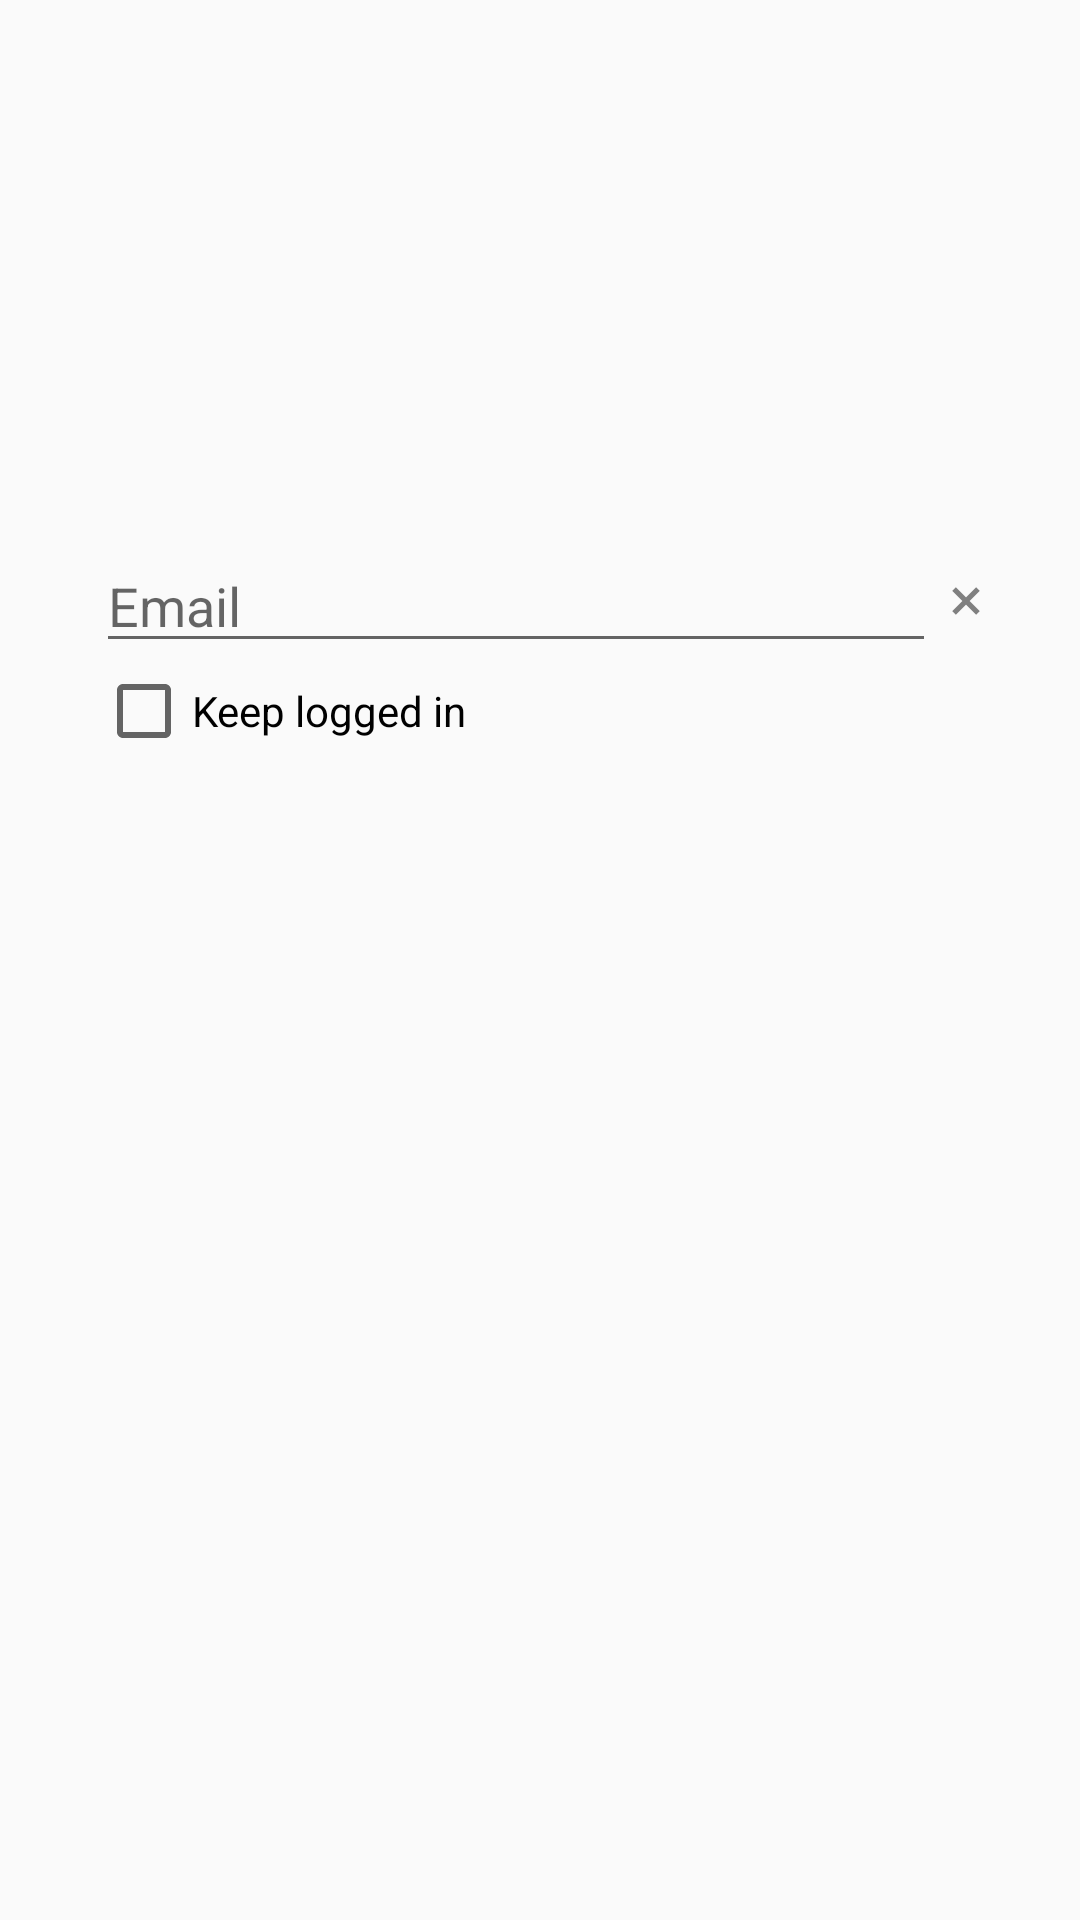

Where icons sit on this 1080 × 1920 app screen, as box(x1, y1, x2, y2):
close: box(952, 587, 980, 615)
